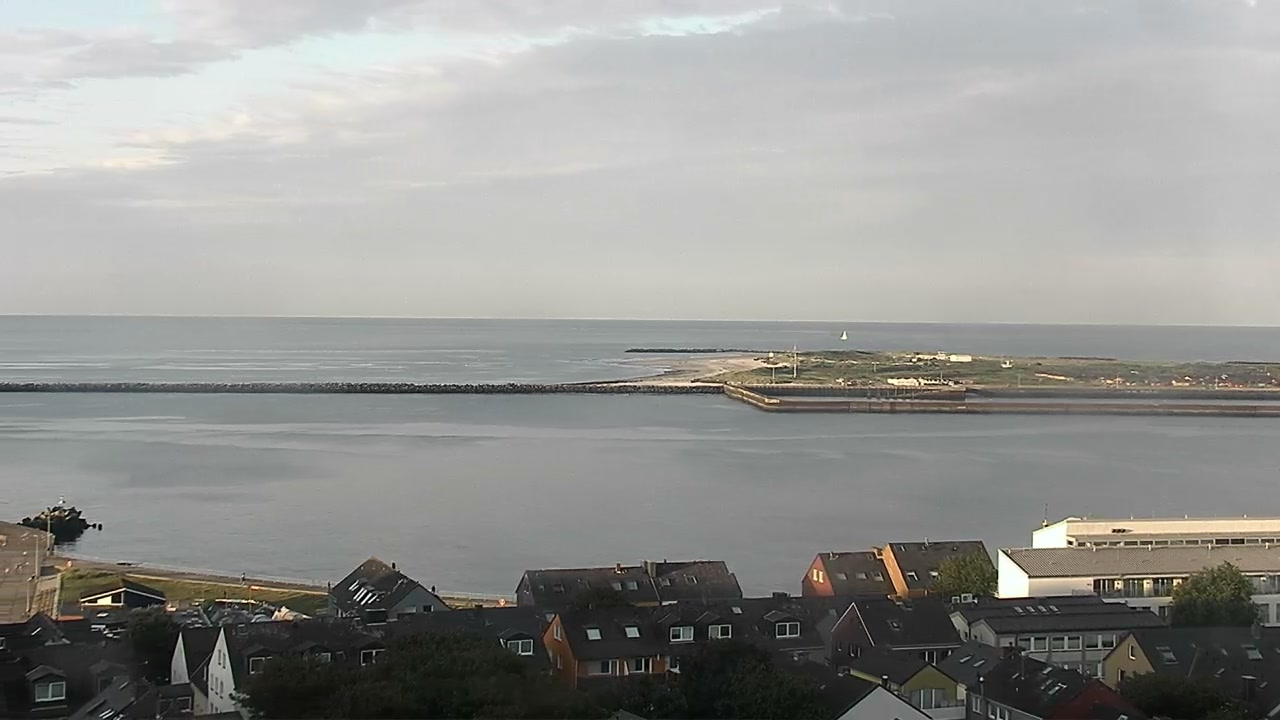human: (239, 571, 246, 586), (431, 585, 435, 593)
sea: (839, 329, 847, 340)
